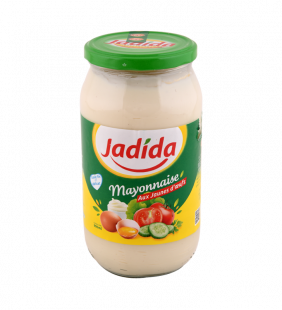Promotion: (79, 30, 203, 279)
